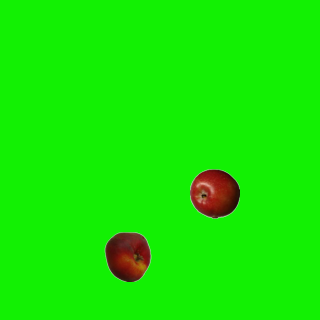Apple Braeburn: (189, 168, 239, 218)
Nectarine Flat: (102, 231, 152, 281)
